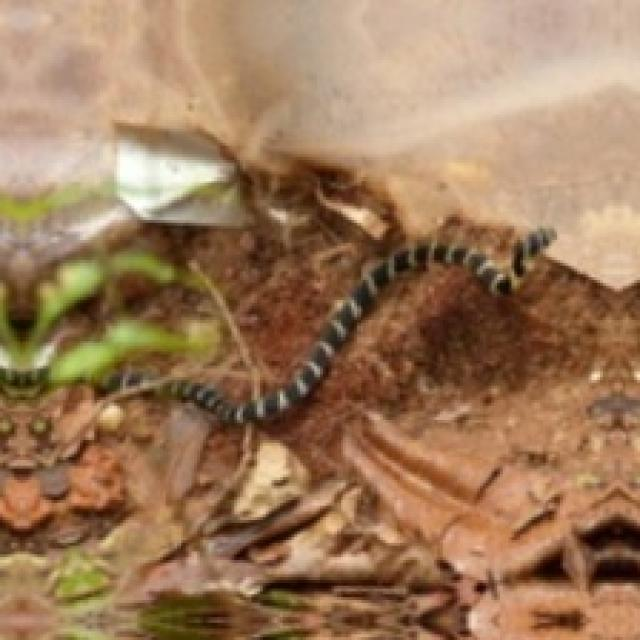king cobra: (149, 229, 551, 420)
